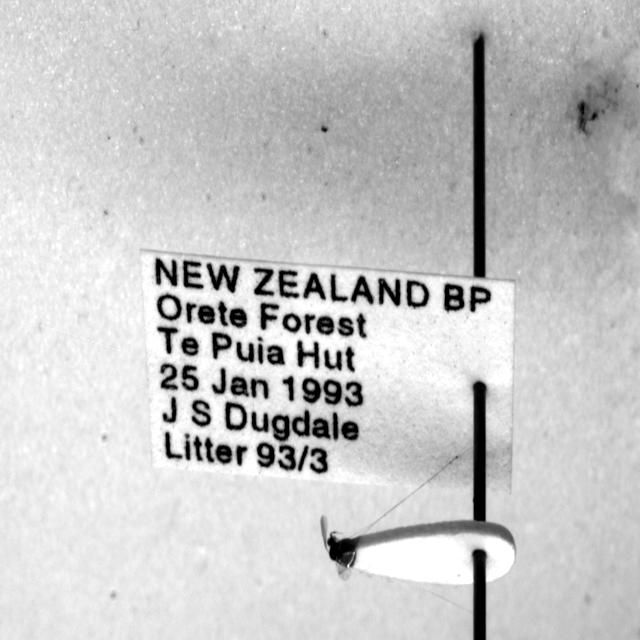typed_label: (141, 251, 515, 491)
